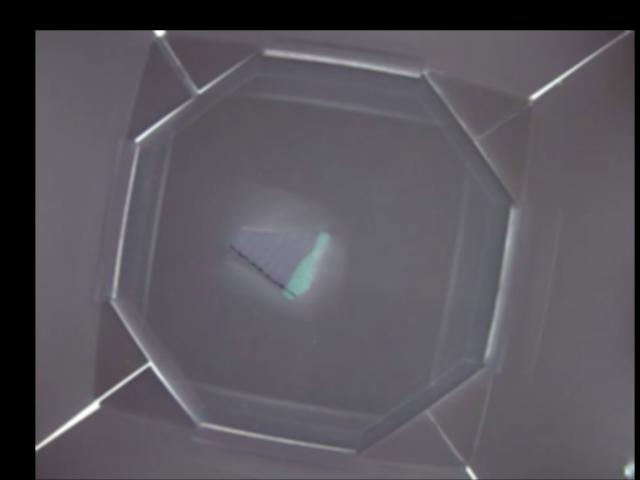China: (223, 218, 332, 298)
